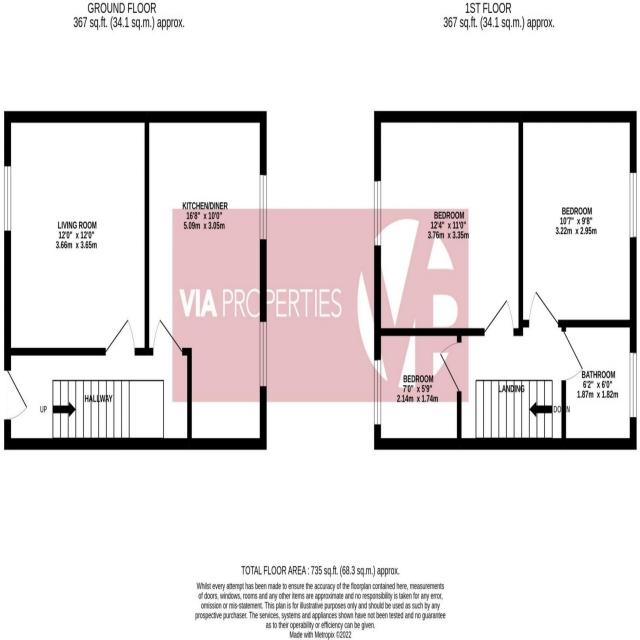DOOR: (4, 368, 29, 422), (152, 317, 184, 356), (561, 329, 584, 382), (104, 318, 136, 356), (439, 341, 462, 393), (483, 299, 515, 336), (528, 290, 559, 328)
ROOM: (144, 111, 267, 450), (4, 110, 150, 356), (374, 110, 523, 336), (518, 111, 637, 327), (374, 328, 462, 450)
WINDOW: (629, 351, 638, 420), (373, 358, 382, 427), (629, 171, 637, 239), (259, 320, 267, 388), (259, 173, 267, 241), (374, 180, 382, 247), (4, 165, 12, 232)
